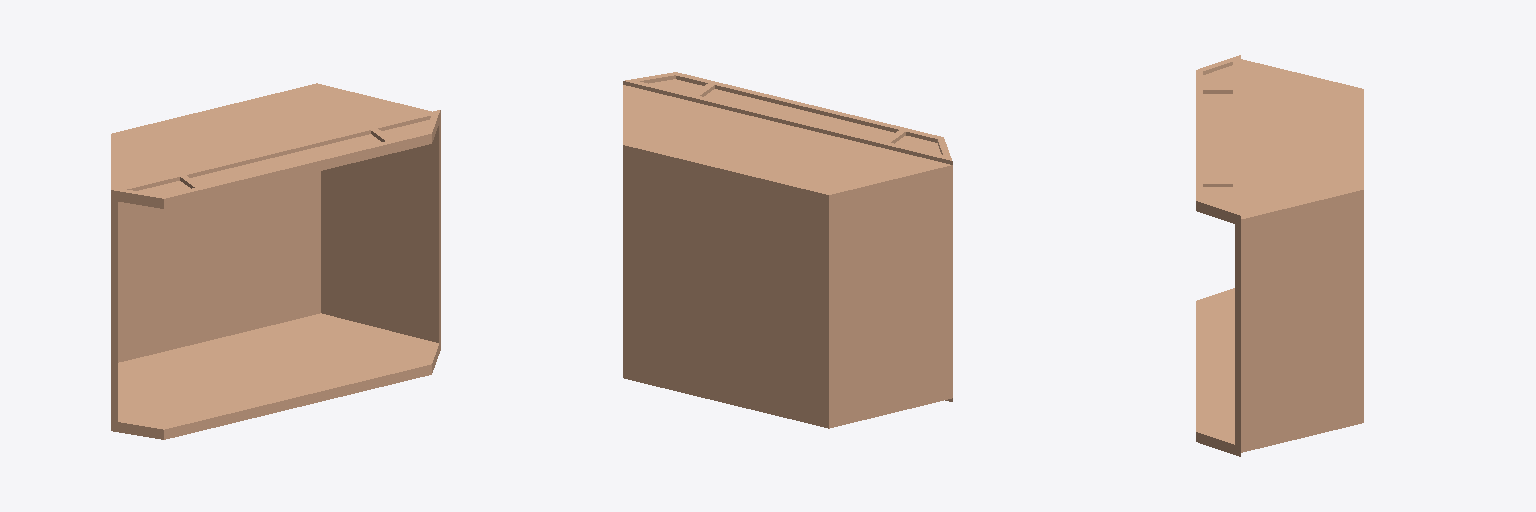
The model's file is container_empy.obj.
The picture shows the model from 3 angles: view 1: azimuth 30°, elevation 25°; view 2: azimuth 150°, elevation 25°; view 3: azimuth 270°, elevation 25°; orthographic projection.
Visible parts, largest first — view 1: Box01; view 2: Box01; view 3: Box01.
Part boxes in pixels (x1,y1,x2,y2): Box01: (111, 83, 440, 439); Box01: (623, 72, 952, 428); Box01: (1196, 55, 1363, 456).
Bounding box in the file's own units: 5.34 × 3.74 × 2.36.